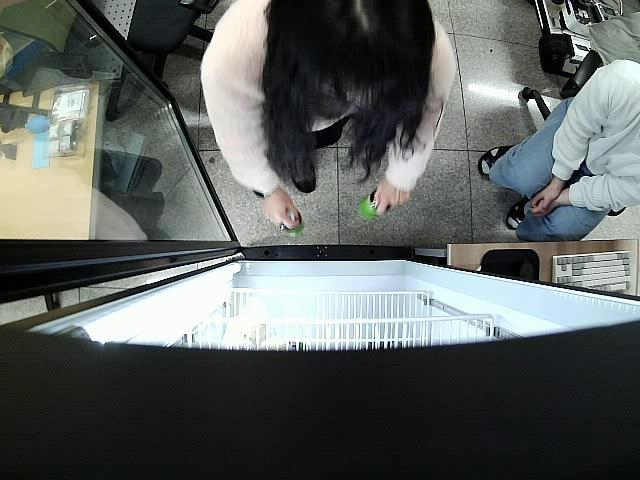19_17cha: (356, 188, 394, 223), (276, 206, 306, 236)
